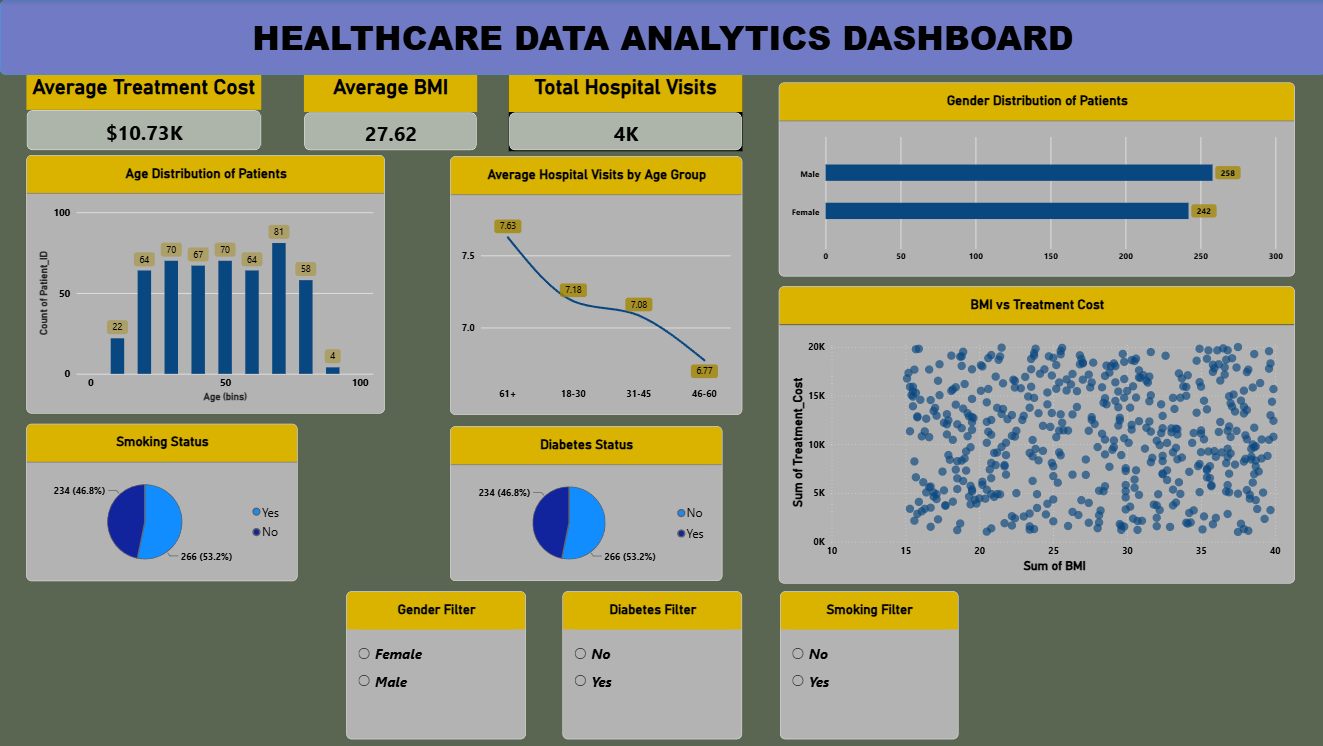

Layout of this report page (visuals, bound fields, positions):
{"tool":"powerbi","page":{"name":"Page 1","canvas":[1920,1080],"ordinal":0},"visuals":[{"type":"cardVisual","title":"Average Treatment Cost","fields":{"Data":["Healthcare_Data.Average Treatment Cost"]},"box":[38,108.6,340.2,110.4],"z":0},{"type":"clusteredColumnChart","title":"Age Distribution of Patients","fields":{"Category":["Healthcare_Data.Age (bins)"],"Y":["CountNonNull(Healthcare_Data.Patient_ID)"]},"box":[38,224.4,519.4,374.6],"z":1000},{"type":"cardVisual","title":"Average BMI","fields":{"Data":["Healthcare_Data.Average BMI"]},"box":[439.7,108.6,251.5,110.4],"z":2000},{"type":"textbox","box":[0,0,1920,107.9],"z":3000},{"type":"cardVisual","title":"Total Hospital Visits","fields":{"Data":["Healthcare_Data.Total Hospital Visits"]},"box":[736.5,108.6,338.4,110.4],"z":4000},{"type":"clusteredBarChart","title":"Gender Distribution of Patients","fields":{"Category":["Healthcare_Data.Gender"],"Y":["CountNonNull(Healthcare_Data.Patient_ID)"]},"box":[1127.4,119.4,747.4,280.5],"z":5000},{"type":"scatterChart","title":"BMI vs Treatment Cost","fields":{"X":["Sum(Healthcare_Data.BMI)"],"Y":["Sum(Healthcare_Data.Treatment_Cost)"],"Category":["Healthcare_Data.Patient_ID"]},"box":[1127.4,414.4,747.4,430.7],"z":6000},{"type":"lineChart","title":"Average Hospital Visits by Age Group","fields":{"Category":["Healthcare_Data.Age Group"],"Y":["Avg(Healthcare_Data.Hospital_Visits)"]},"box":[651.5,226.2,423.5,374.6],"z":7000},{"type":"pieChart","title":"Smoking Status","fields":{"Category":["Healthcare_Data.Smoker"],"Y":["CountNonNull(Healthcare_Data.Patient_ID)"]},"box":[38,613.5,392.7,228],"z":8000},{"type":"pieChart","title":"Diabetes Status","fields":{"Category":["Healthcare_Data.Diabetes"],"Y":["CountNonNull(Healthcare_Data.Patient_ID)"]},"box":[651.5,617.1,394,224],"z":9000},{"type":"listSlicer","title":"Gender Filter","fields":{"Values":["Healthcare_Data.Gender"]},"box":[502,856,260,214],"z":10000},{"type":"listSlicer","title":"Diabetes Filter","fields":{"Values":["Healthcare_Data.Diabetes"]},"box":[814,856,260,214],"z":11000},{"type":"listSlicer","title":"Smoking Filter","fields":{"Values":["Healthcare_Data.Smoker"]},"box":[1130,856,258,214],"z":12000}]}

Visuals, with their boxes in screenshot pixels (x1, y1, x2, y2), scaled from the page's 1920x1080 canvas onto the 1323x746 screenshot:
"Average Treatment Cost" cardVisual: (x1=26, y1=75, x2=261, y2=151)
"Age Distribution of Patients" clusteredColumnChart: (x1=26, y1=155, x2=384, y2=414)
"Average BMI" cardVisual: (x1=303, y1=75, x2=476, y2=151)
textbox: (x1=0, y1=0, x2=1322, y2=75)
"Total Hospital Visits" cardVisual: (x1=507, y1=75, x2=741, y2=151)
"Gender Distribution of Patients" clusteredBarChart: (x1=777, y1=82, x2=1292, y2=276)
"BMI vs Treatment Cost" scatterChart: (x1=777, y1=286, x2=1292, y2=584)
"Average Hospital Visits by Age Group" lineChart: (x1=449, y1=156, x2=741, y2=415)
"Smoking Status" pieChart: (x1=26, y1=424, x2=297, y2=581)
"Diabetes Status" pieChart: (x1=449, y1=426, x2=720, y2=581)
"Gender Filter" listSlicer: (x1=346, y1=591, x2=525, y2=739)
"Diabetes Filter" listSlicer: (x1=561, y1=591, x2=740, y2=739)
"Smoking Filter" listSlicer: (x1=779, y1=591, x2=956, y2=739)
